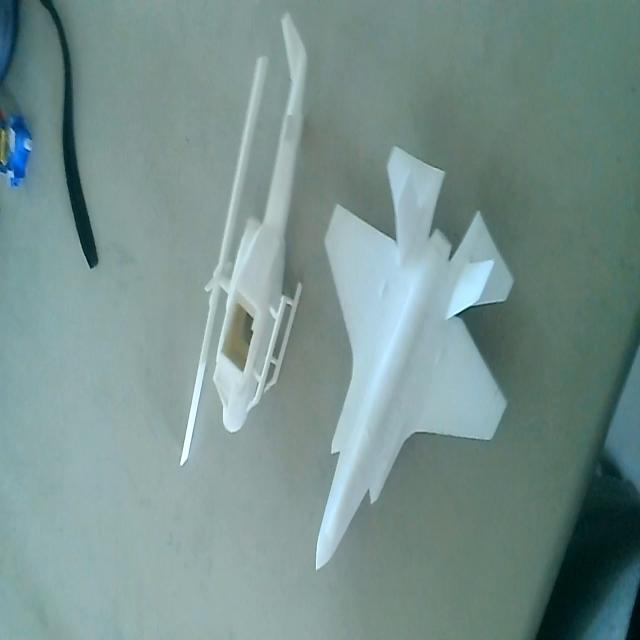Helicopter: (179, 6, 306, 465)
Jet: (311, 142, 516, 576)
